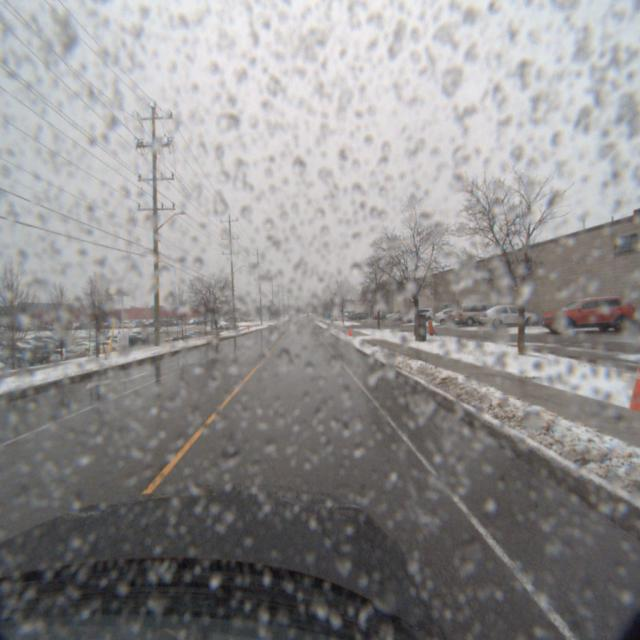Car: (530, 294, 638, 335), (471, 303, 539, 329), (447, 302, 507, 328), (427, 308, 469, 328), (397, 309, 431, 324)
